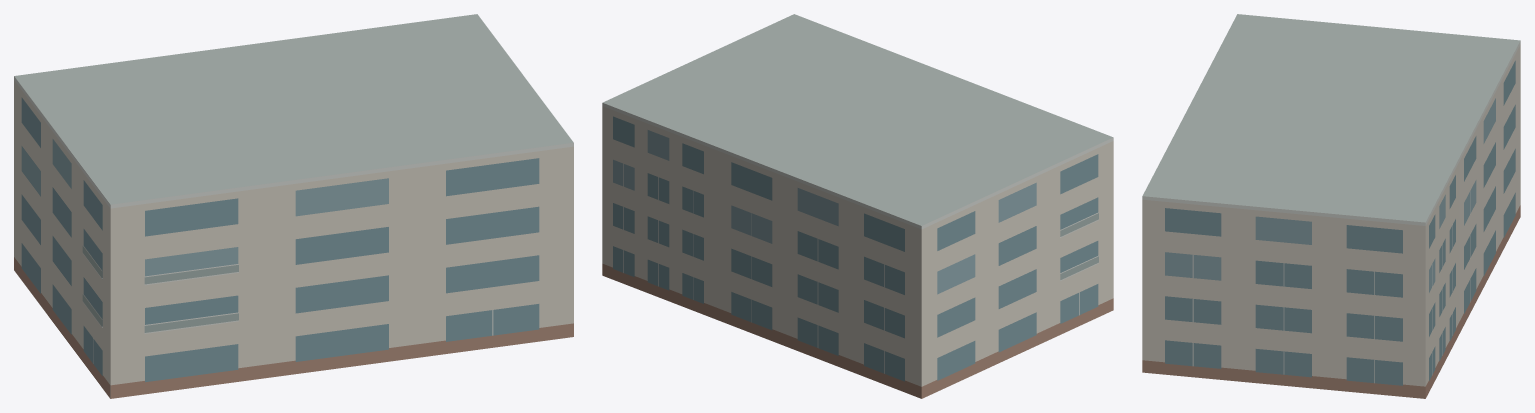
Rendered from residential-a89b581d-fda3-4de5-bbe8-4f1fc944e30a.glb.
3 renders of one model, left to right at view 1: azimuth 30°, elevation 25°; view 2: azimuth 150°, elevation 25°; view 3: azimuth 270°, elevation 25°, orthographic. The views are drawn at different scales.
Visible parts, largest first — view 1: residential-a89b581d-fda3-4de5-bbe8-4f1fc944e30a.tmp; view 2: residential-a89b581d-fda3-4de5-bbe8-4f1fc944e30a.tmp; view 3: residential-a89b581d-fda3-4de5-bbe8-4f1fc944e30a.tmp.
Part boxes in pixels (x1,y1,x2,y2): residential-a89b581d-fda3-4de5-bbe8-4f1fc944e30a.tmp: [14, 14, 573, 398]; residential-a89b581d-fda3-4de5-bbe8-4f1fc944e30a.tmp: [602, 14, 1113, 398]; residential-a89b581d-fda3-4de5-bbe8-4f1fc944e30a.tmp: [1142, 14, 1520, 398].
Bounding box in the file's own units: 30.95 × 12.2 × 23.72.
